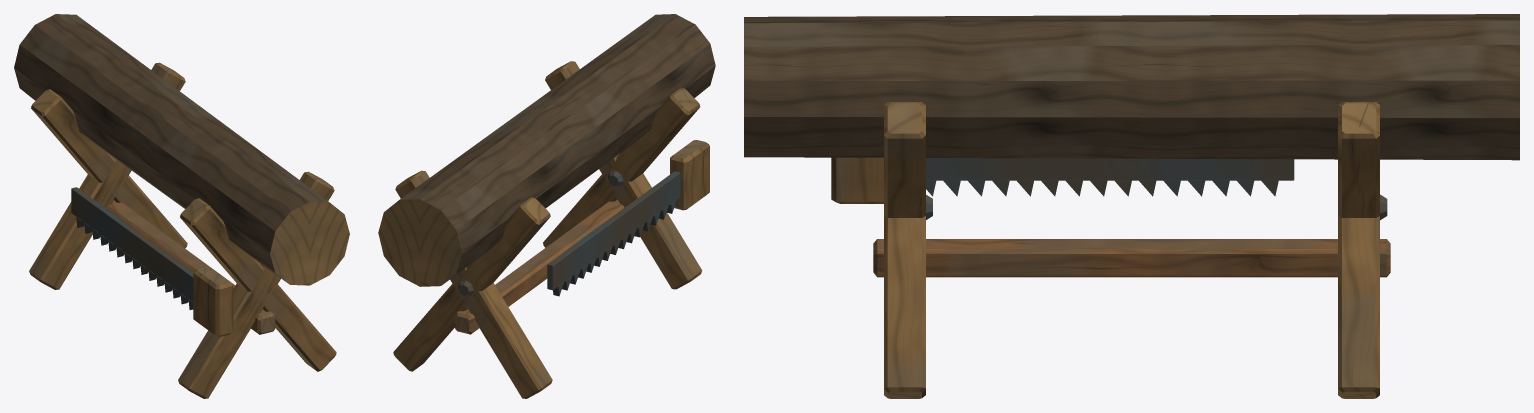
The model's file is w18_sawhorse.fbx.
3 views of the same model, side by side, from view 1: azimuth 30°, elevation 25°; view 2: azimuth 150°, elevation 25°; view 3: azimuth 270°, elevation 25° (orthographic). The views are drawn at different scales.
Parts seen in each view (by area): view 1: w18_sawhorse; view 2: w18_sawhorse; view 3: w18_sawhorse.
Part boxes in pixels (bbox=[...]): w18_sawhorse: bbox=[14, 14, 349, 398]; w18_sawhorse: bbox=[378, 14, 715, 398]; w18_sawhorse: bbox=[744, 14, 1519, 398].
Size of the model in its own units: 7430 by 22200 by 10593.
